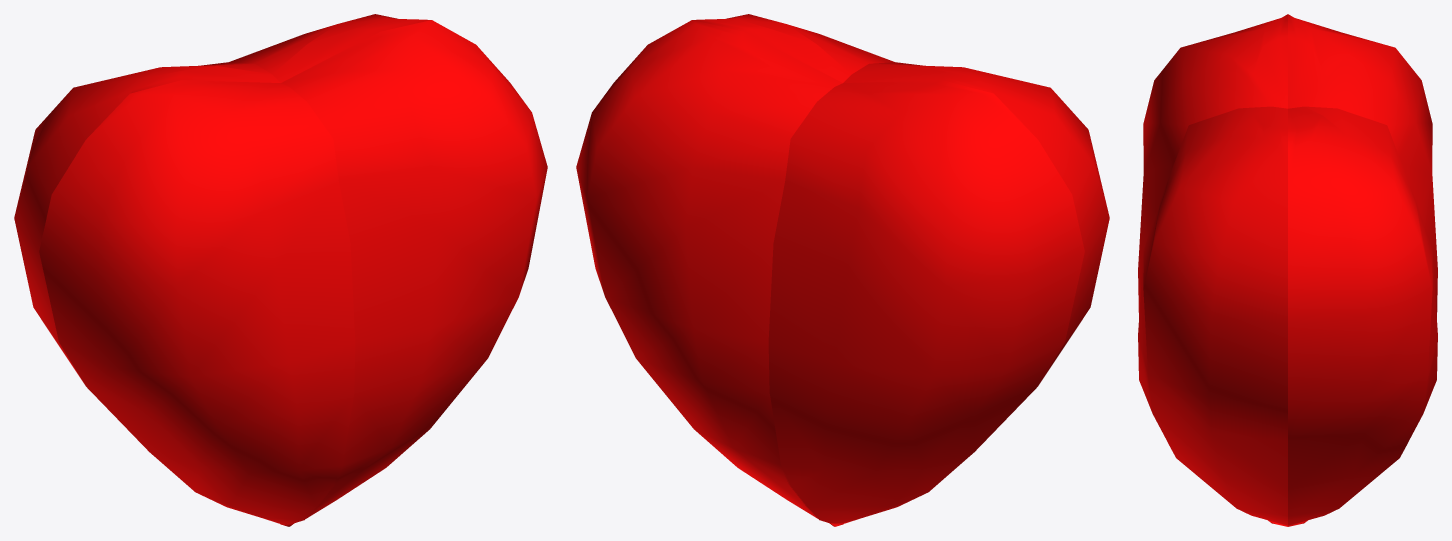
The model's file is pickUpHeart.obj.
3 views of the same model, side by side, from view 1: azimuth 30°, elevation 25°; view 2: azimuth 150°, elevation 25°; view 3: azimuth 270°, elevation 25° (orthographic). The views are drawn at different scales.
Parts seen in each view (by area): view 1: Sphere.001; view 2: Sphere.001; view 3: Sphere.001.
Part boxes in pixels (x1,y1,x2,y2): Sphere.001: (14, 14, 547, 526); Sphere.001: (576, 14, 1109, 526); Sphere.001: (1138, 14, 1437, 526).
Size of the model in its own units: 2.26 by 2.1 by 1.28.
